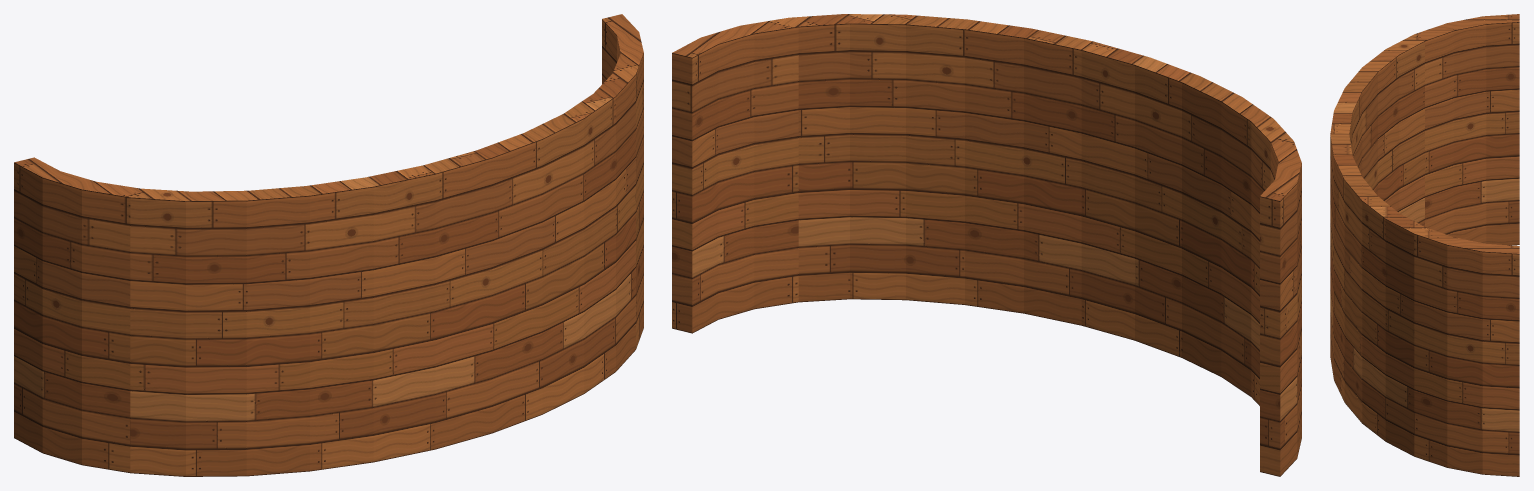
The model's file is MIDDLE_STERN.glb.
The picture shows the model from 3 angles, left to right: view 1: azimuth 30°, elevation 25°; view 2: azimuth 150°, elevation 25°; view 3: azimuth 270°, elevation 25°; orthographic projection. The views are drawn at different scales.
Visible parts, largest first — view 1: MIDDLE_STERN; view 2: MIDDLE_STERN; view 3: MIDDLE_STERN.
Boxes of the visible parts, x1,y1,x2,y2 form: MIDDLE_STERN: [14, 14, 643, 476]; MIDDLE_STERN: [672, 14, 1301, 476]; MIDDLE_STERN: [1330, 14, 1519, 476].
Bounding box in the file's own units: 6 × 2.6 × 2.
Materials: 1 (1 with a texture image).
